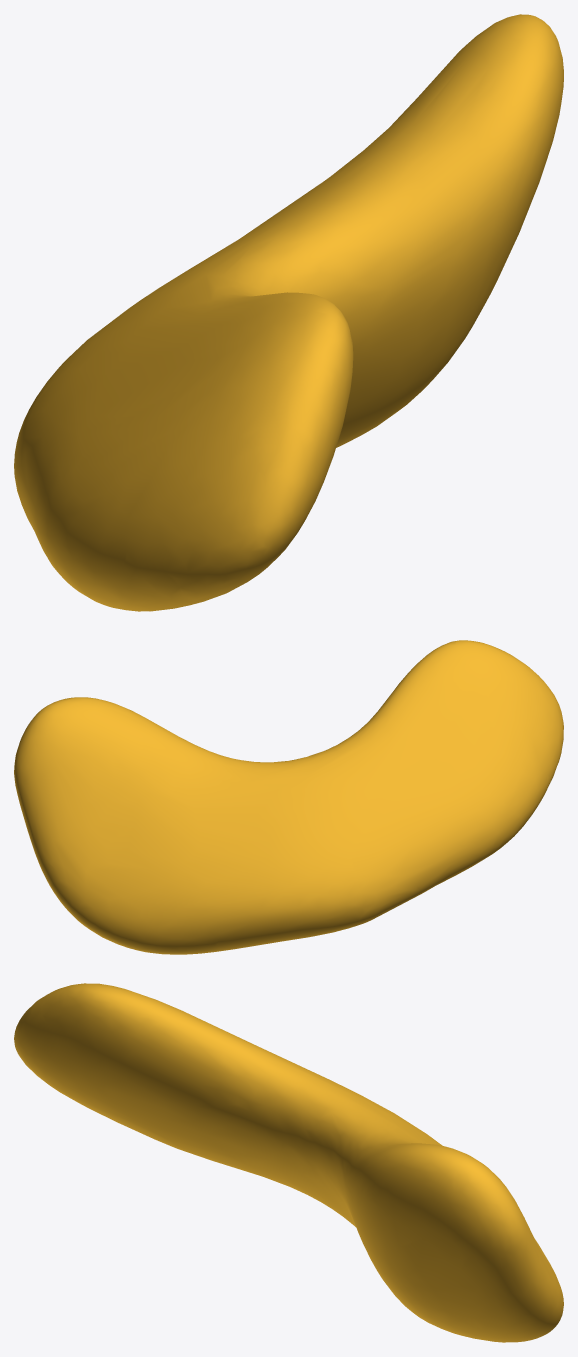
The model's file is nervoso-gracile-lobule-r.glb.
3 renders of one model, top to bottom at view 1: azimuth 30°, elevation 25°; view 2: azimuth 150°, elevation 25°; view 3: azimuth 270°, elevation 25°, orthographic. The views are drawn at different scales.
Parts seen in each view (by area): view 1: Gracile lobule.r; view 2: Gracile lobule.r; view 3: Gracile lobule.r.
Part boxes in pixels (x1,y1,x2,y2): Gracile lobule.r: [14, 14, 563, 611]; Gracile lobule.r: [14, 640, 563, 954]; Gracile lobule.r: [14, 983, 563, 1342].
Size of the model in its own units: 0.0348 by 0.0194 by 0.0366.
